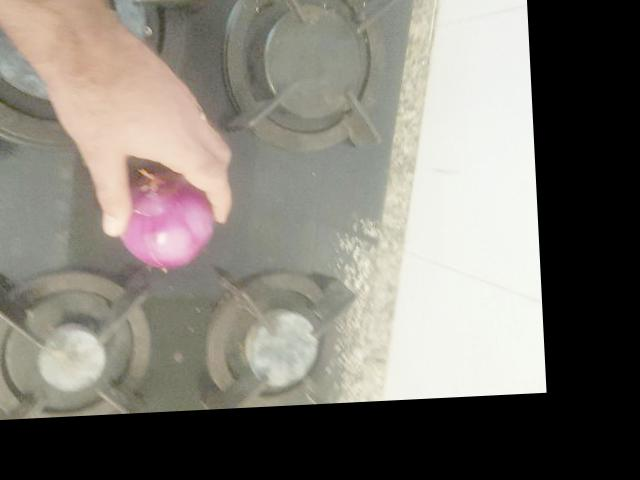onion: (115, 171, 217, 275)
